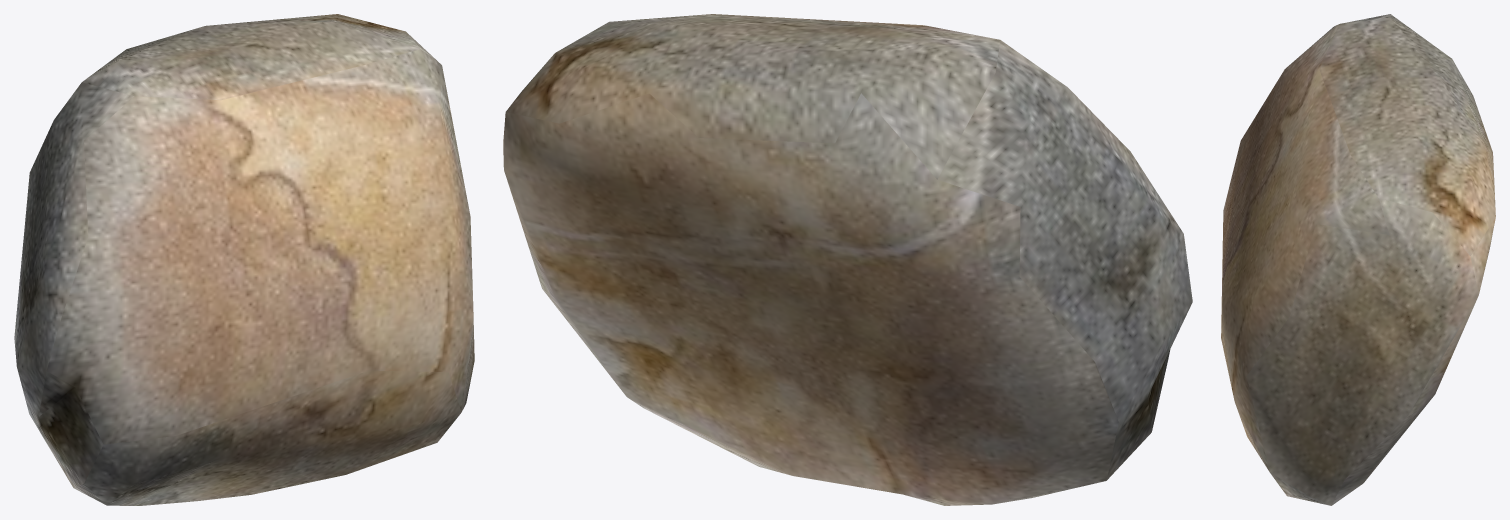
The model's file is rock.glb.
3 renders of one model, left to right at view 1: azimuth 30°, elevation 25°; view 2: azimuth 150°, elevation 25°; view 3: azimuth 270°, elevation 25°, orthographic. The views are drawn at different scales.
Parts seen in each view (by area): view 1: rock039_lod4; view 2: rock039_lod4; view 3: rock039_lod4.
Boxes of the visible parts, x1,y1,x2,y2 form: rock039_lod4: (14,14,474,505); rock039_lod4: (503,14,1192,505); rock039_lod4: (1221,14,1495,505).
Size of the model in its own units: 1 by 0.8459 by 0.5479.
Materials: 1 (1 with a texture image).
